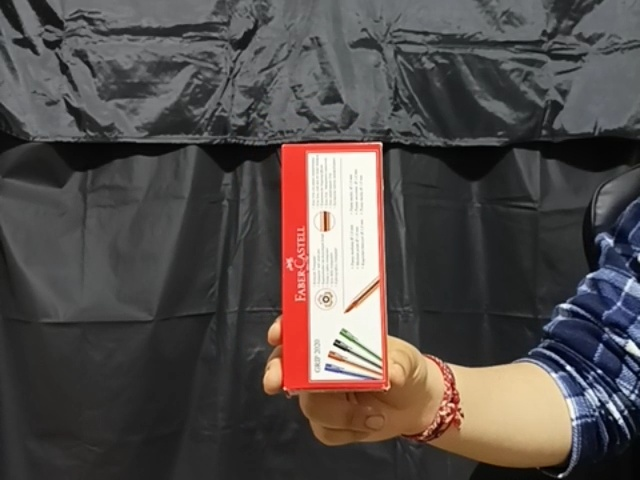xd: (280, 138, 391, 391)
